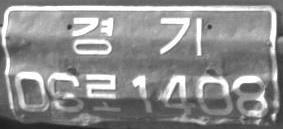0: (13, 70, 50, 113), (196, 74, 233, 116)
1: (128, 73, 156, 114)
4: (160, 73, 196, 114)
6: (49, 70, 85, 114)
8: (233, 73, 269, 119)
경기_D: (70, 15, 204, 56)
로: (85, 72, 122, 114)
